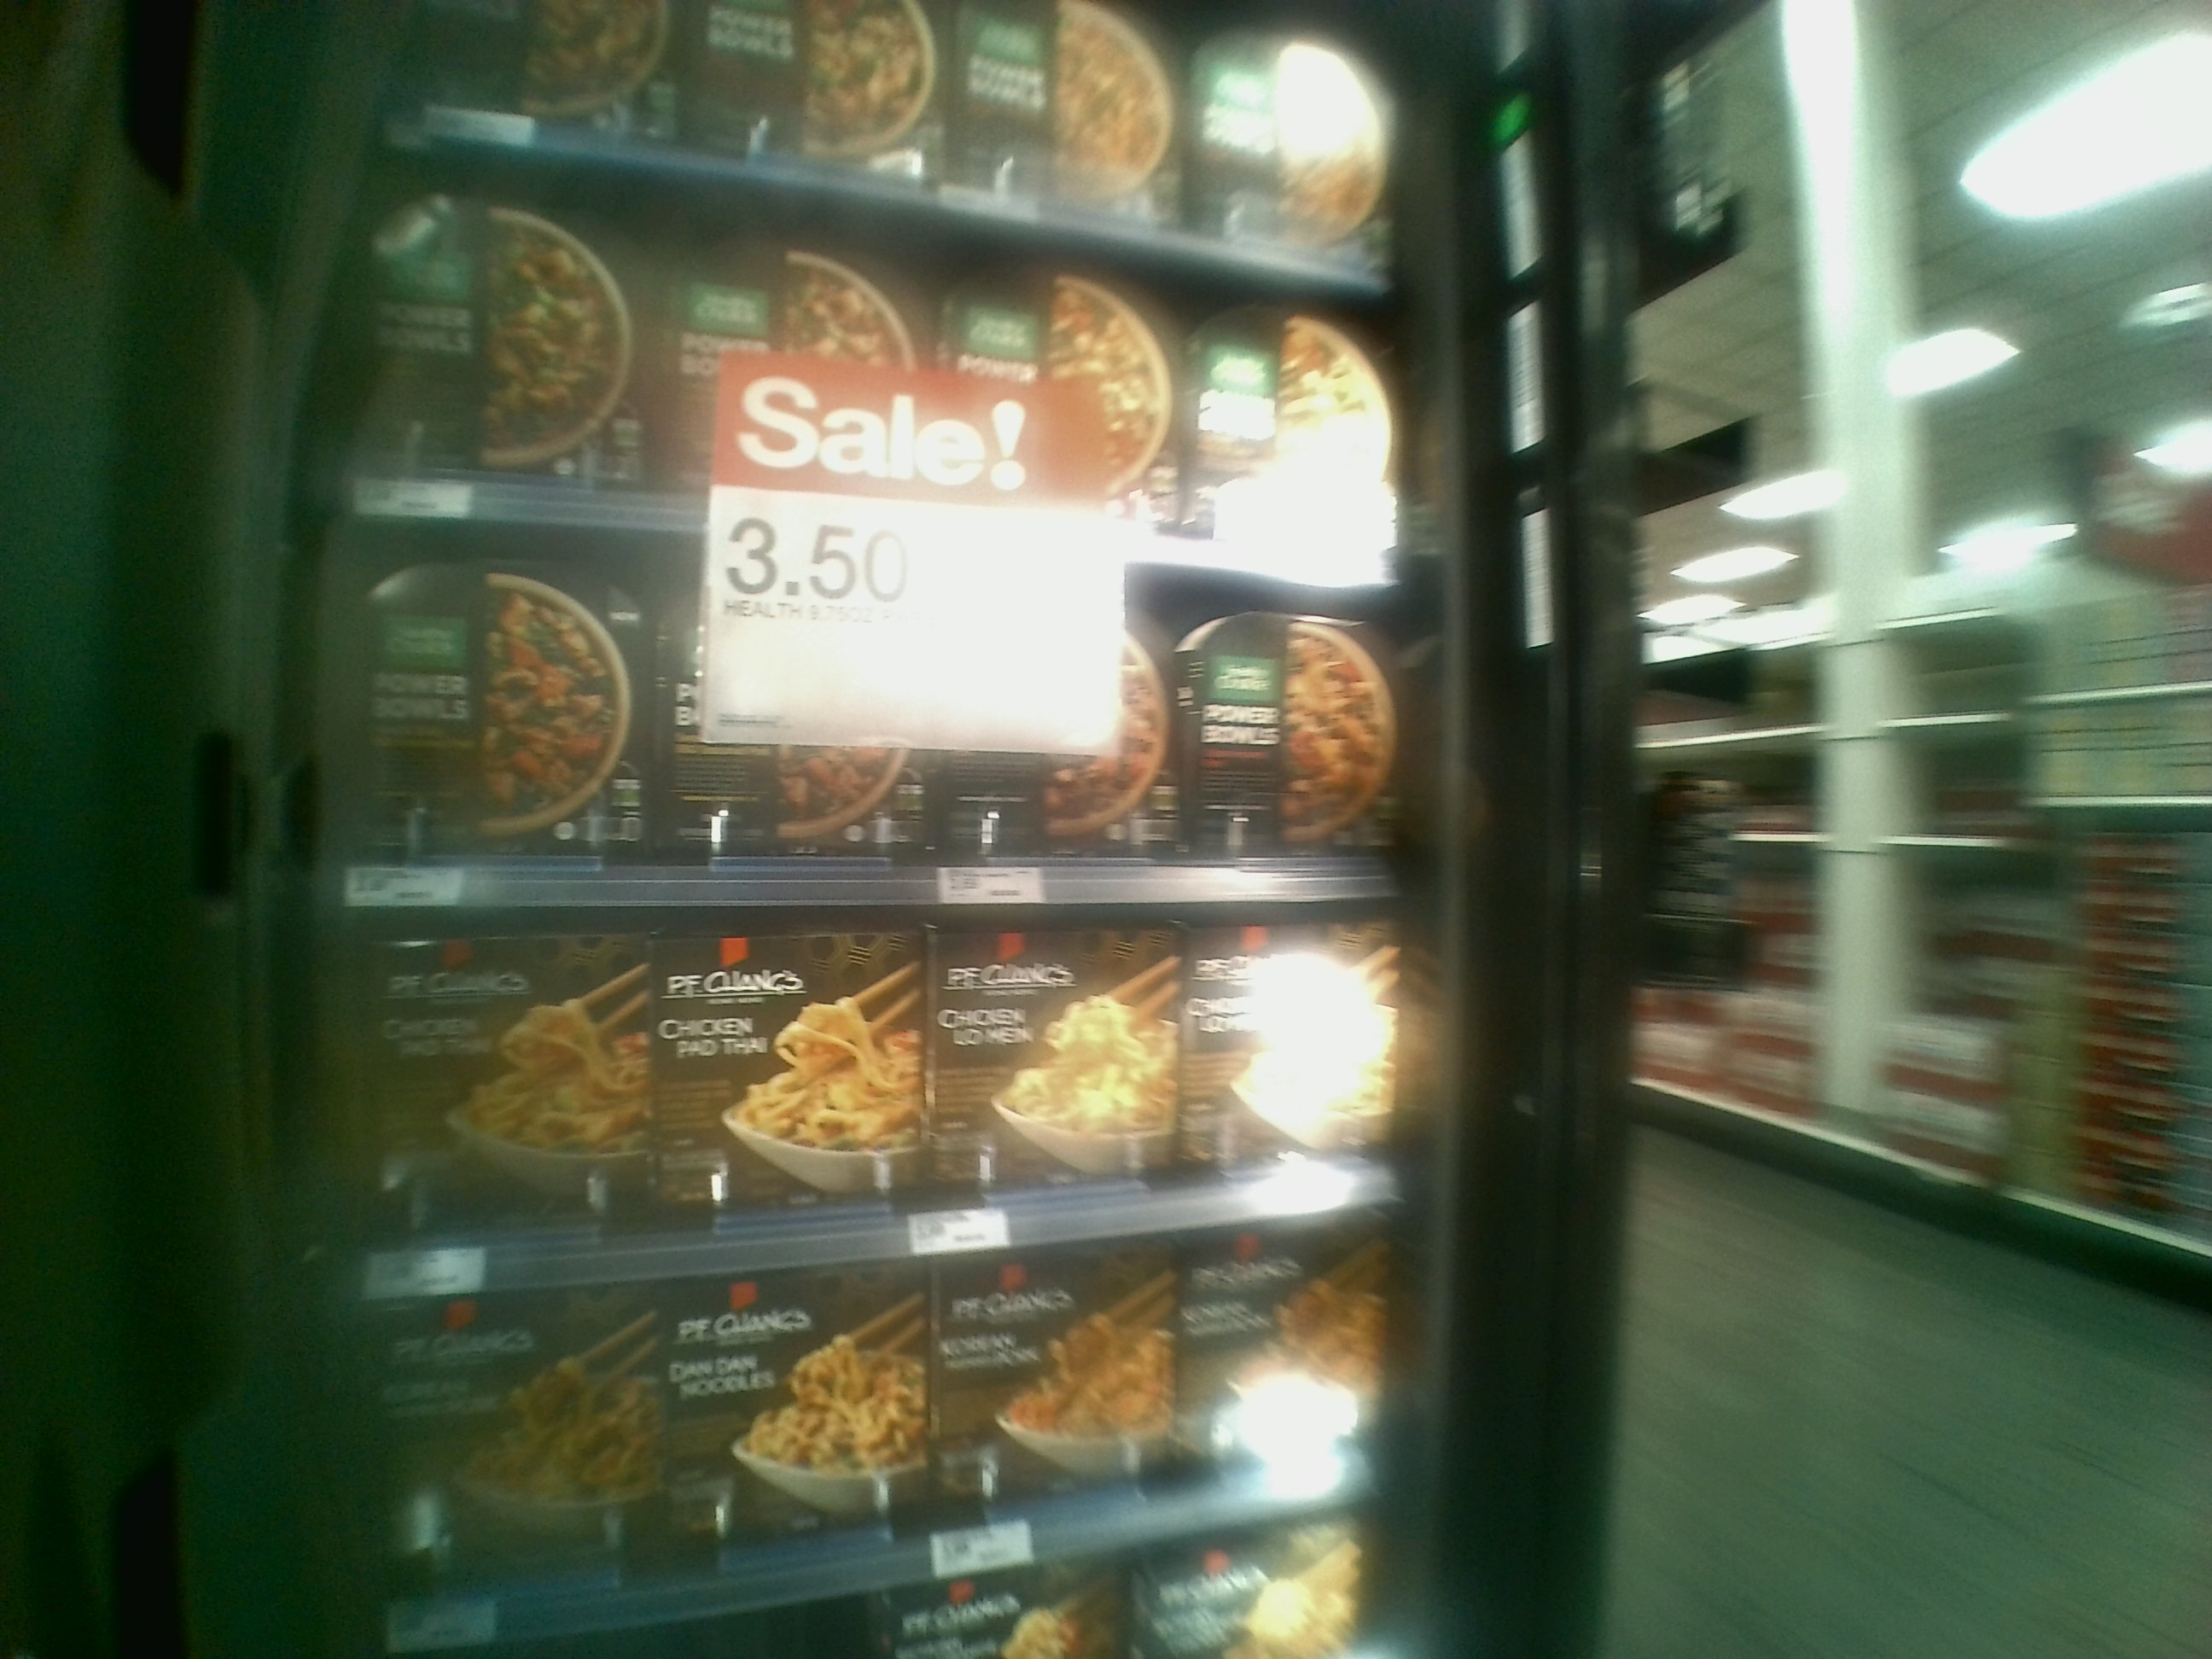shelf: (336, 507, 1454, 918), (320, 897, 1442, 1288)
